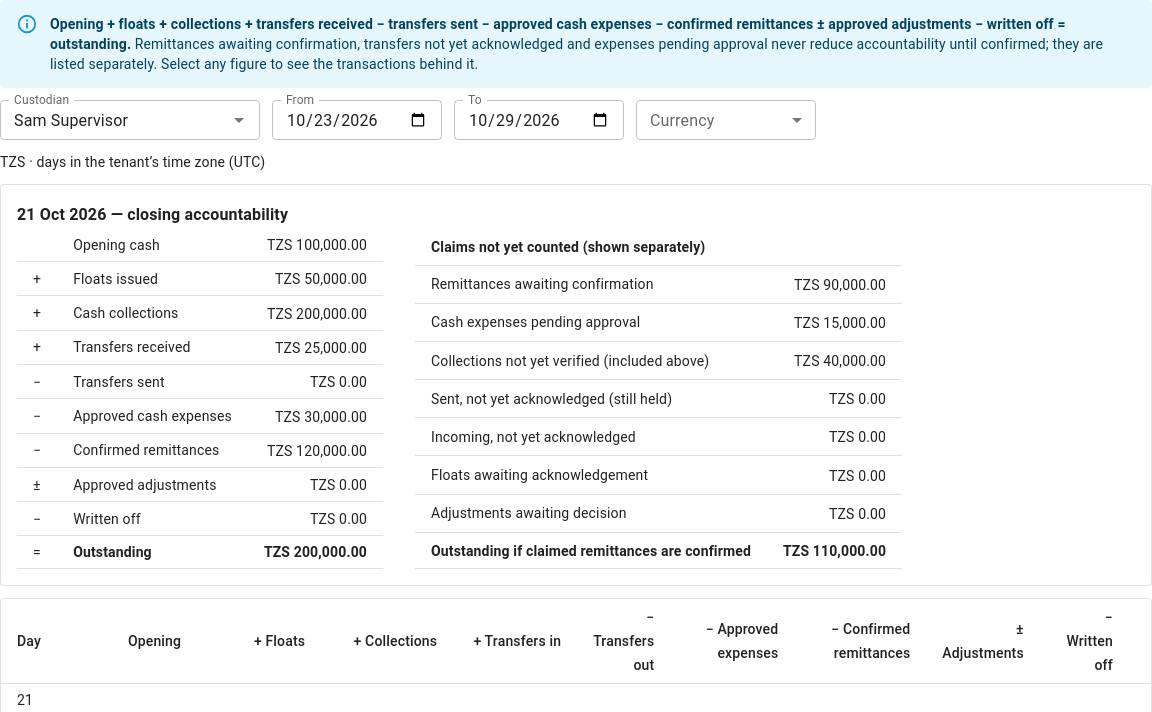
Test: ReconciliationTab drill-down (3.4.8) › opens the transactions behind a figure
Click the button with aria-label "Transfers received: show the transactions". click: (321, 348)
box: [275,338,367,358]
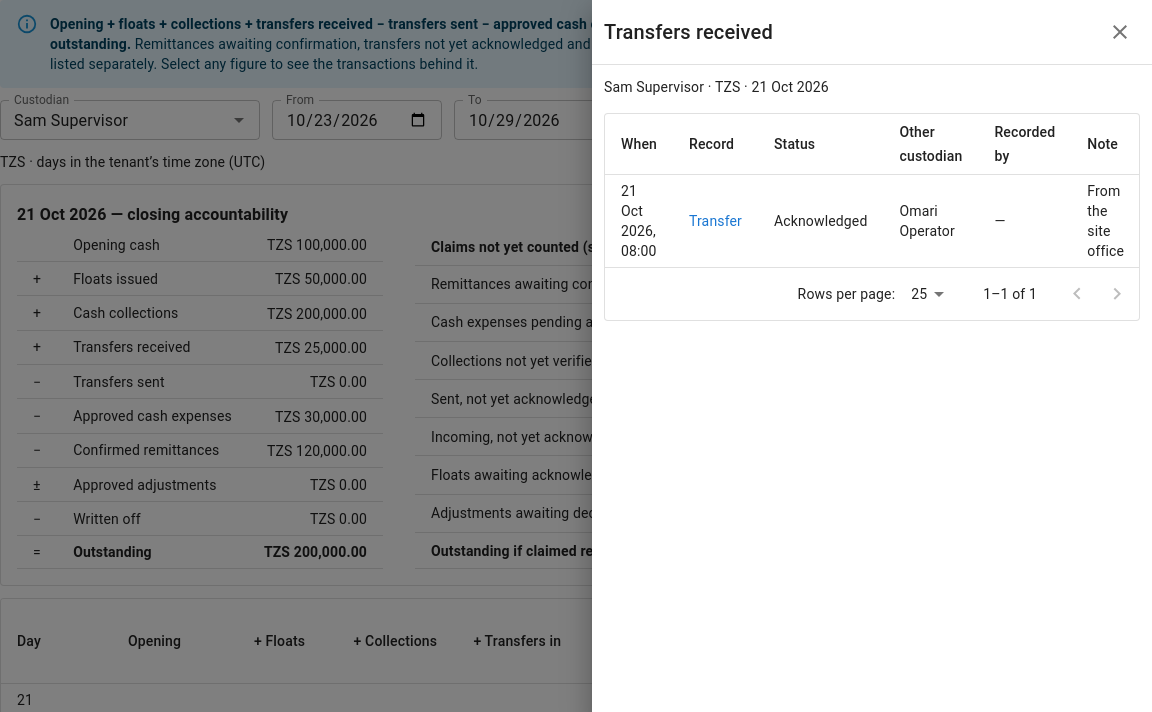
Result: the text "From the site office" is shown at [1071,174,1139,268]
